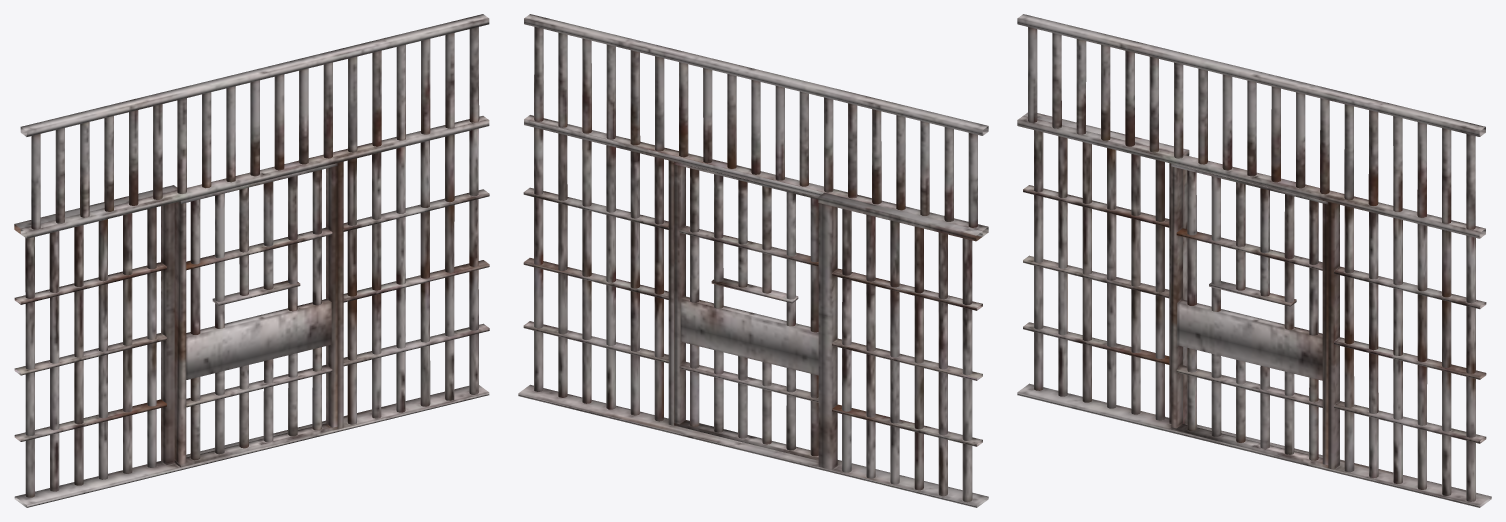
File: cell-bars.lod1.glb
3 views of the same model, side by side, from view 1: azimuth 30°, elevation 25°; view 2: azimuth 150°, elevation 25°; view 3: azimuth 330°, elevation 25° (orthographic).
Visible parts, largest first — view 1: Bars_0; view 2: Bars_0; view 3: Bars_0.
Part boxes in pixels (x1,y1,x2,y2): Bars_0: (14, 14, 489, 507); Bars_0: (518, 14, 988, 507); Bars_0: (1017, 14, 1491, 507).
Size of the model in its own units: 3.5 by 2.72 by 0.1645.
Materials: 1 (1 with a texture image).
